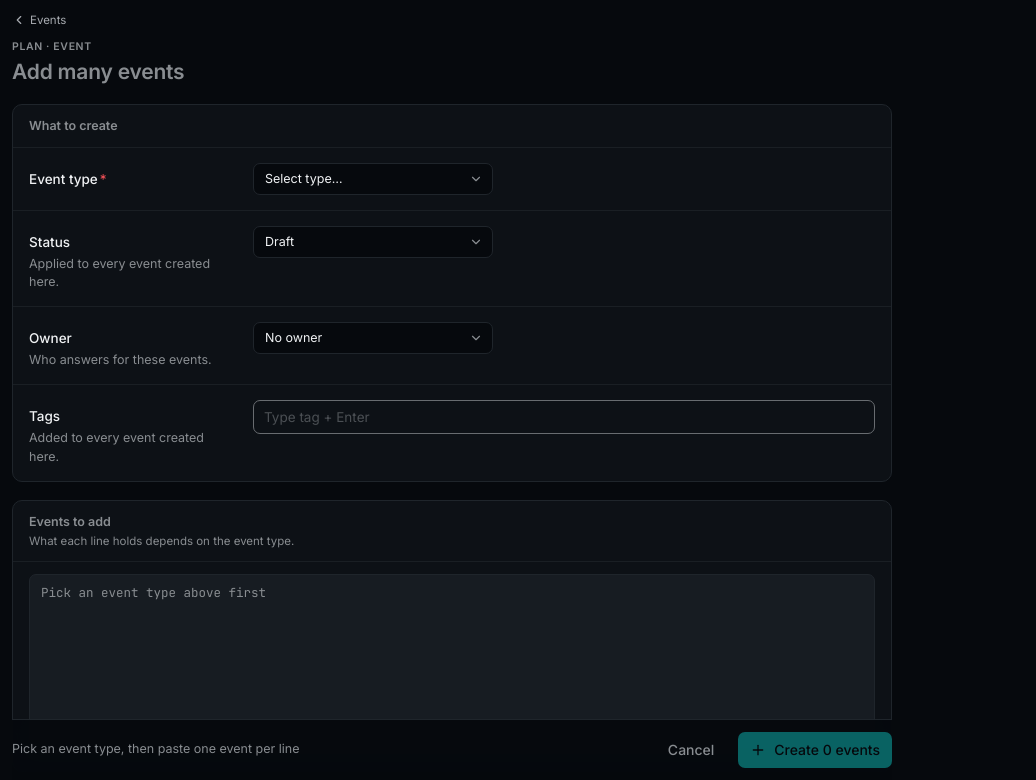
Test: EventBulkForm › refuses a type whose required JSON field a pasted list cannot fill
The image size is (1036, 780).
Step 1. Select "Structured Event" in the dropdown labelled "Event type" → (373, 179), box x1=253 y1=163 x2=493 y2=195
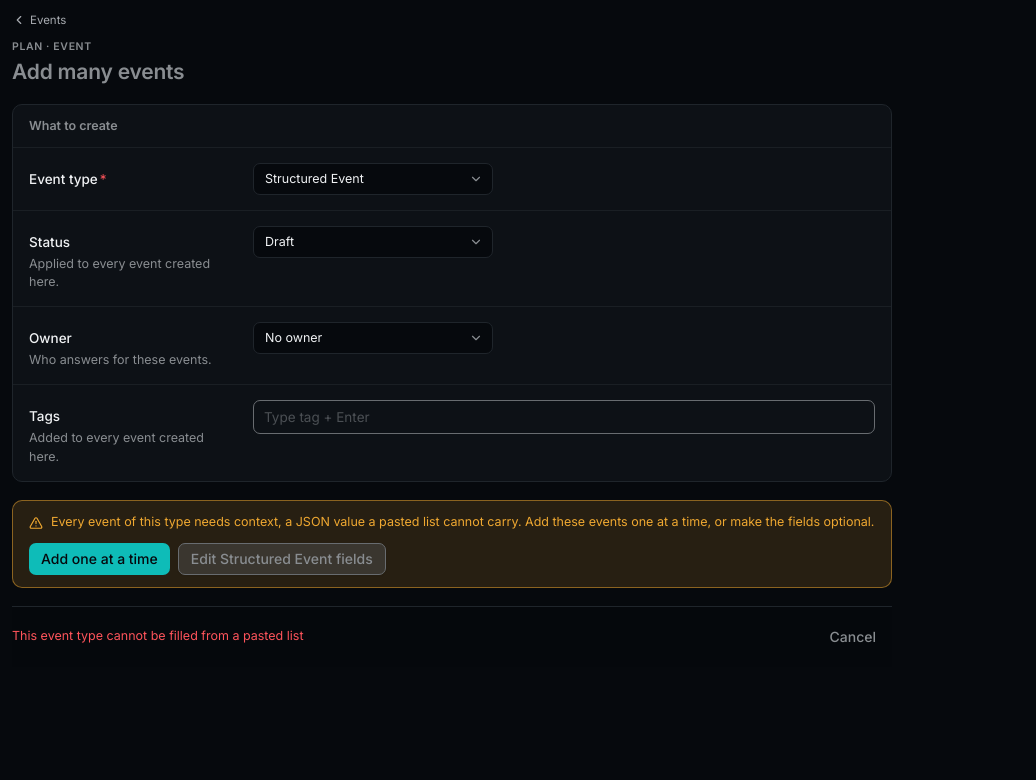
Expected: the field labelled "Events to create" is not shown
Expected: the 1st message shows "needs context, a JSON value", x1=51 y1=514 x2=874 y2=529
